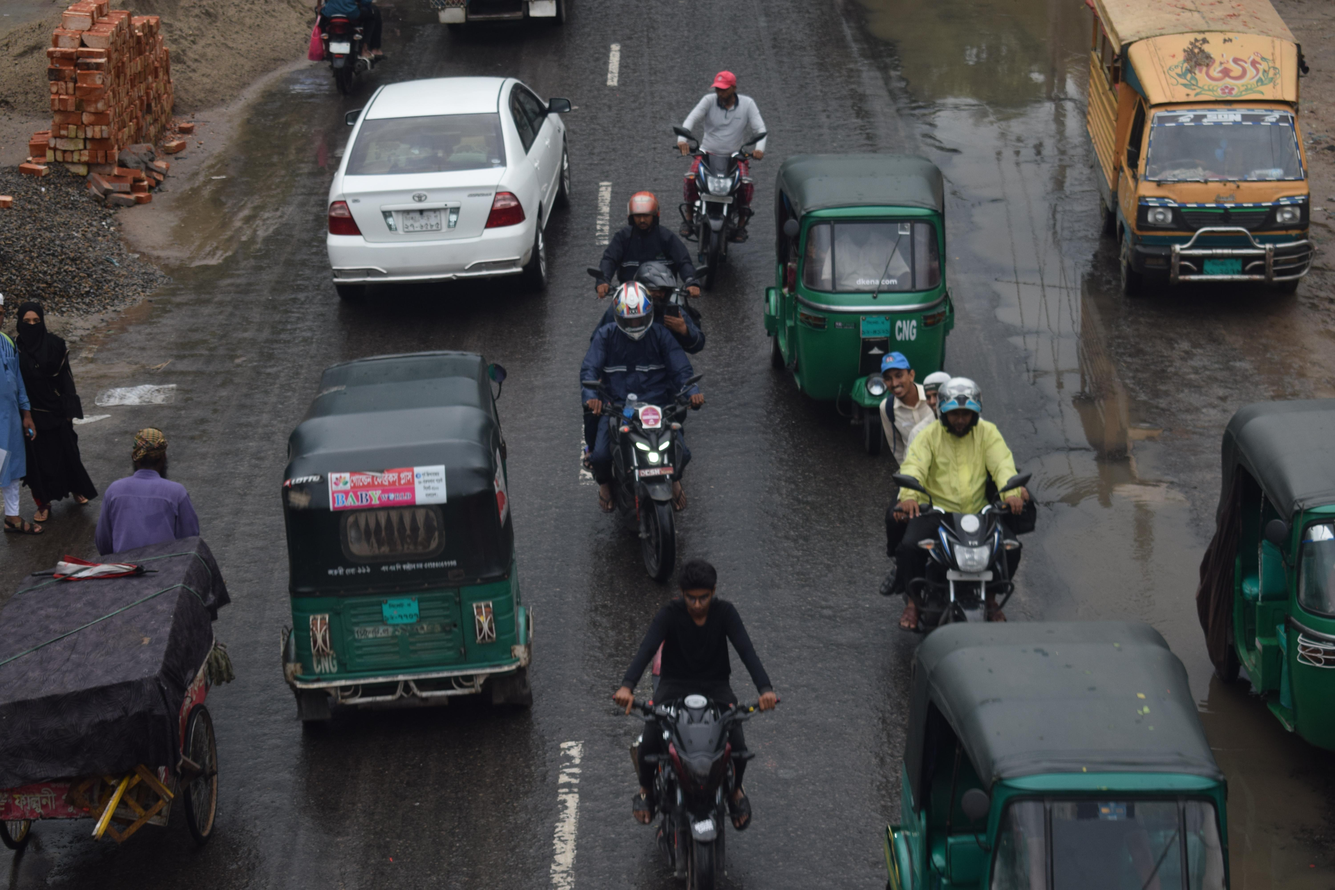Bike: (520, 260, 768, 617), (822, 330, 1058, 676), (578, 526, 794, 890), (638, 54, 790, 306)
Car: (1044, 0, 1335, 321), (273, 44, 590, 336)
